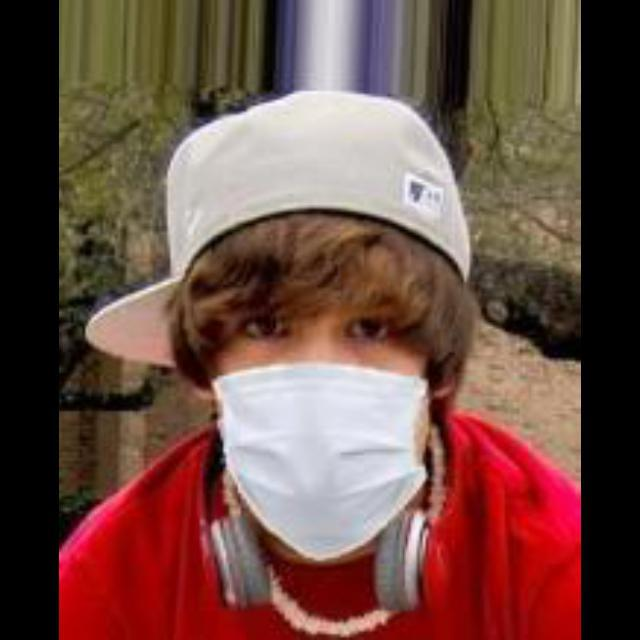suspicion: (128, 182, 492, 546)
